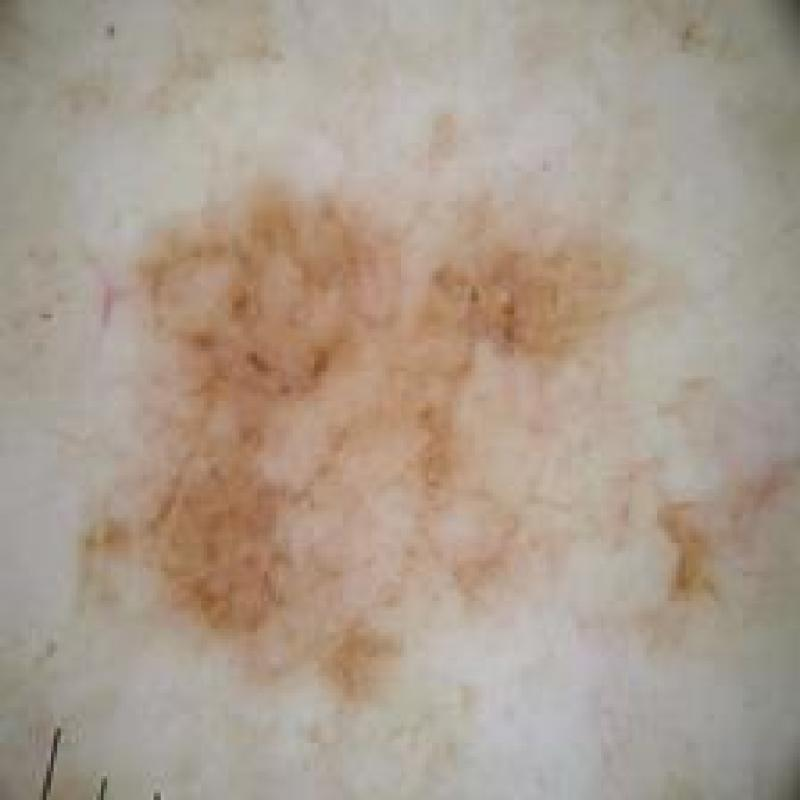malignant: (48, 140, 748, 718)
